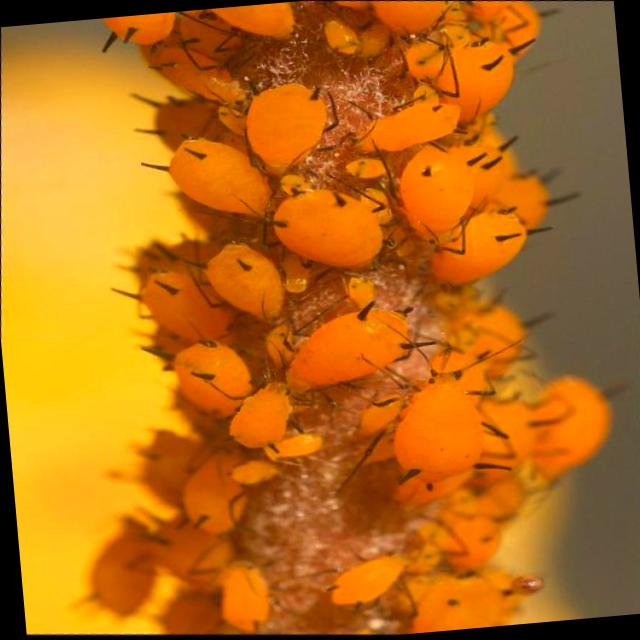aphid: (334, 313, 548, 529), (256, 247, 454, 426), (248, 158, 424, 312), (200, 52, 370, 188), (422, 190, 568, 312), (178, 226, 322, 343), (300, 524, 442, 630), (322, 71, 483, 163), (388, 136, 490, 254), (211, 354, 312, 468)
